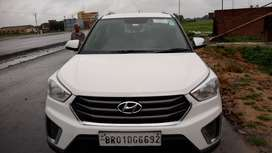BR01DG6692: (99, 132, 161, 145)
